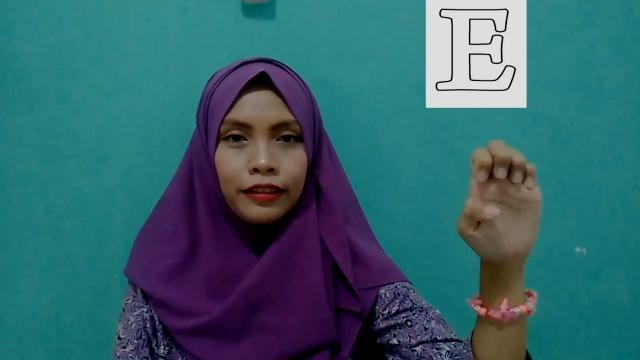E: (453, 137, 542, 269)
